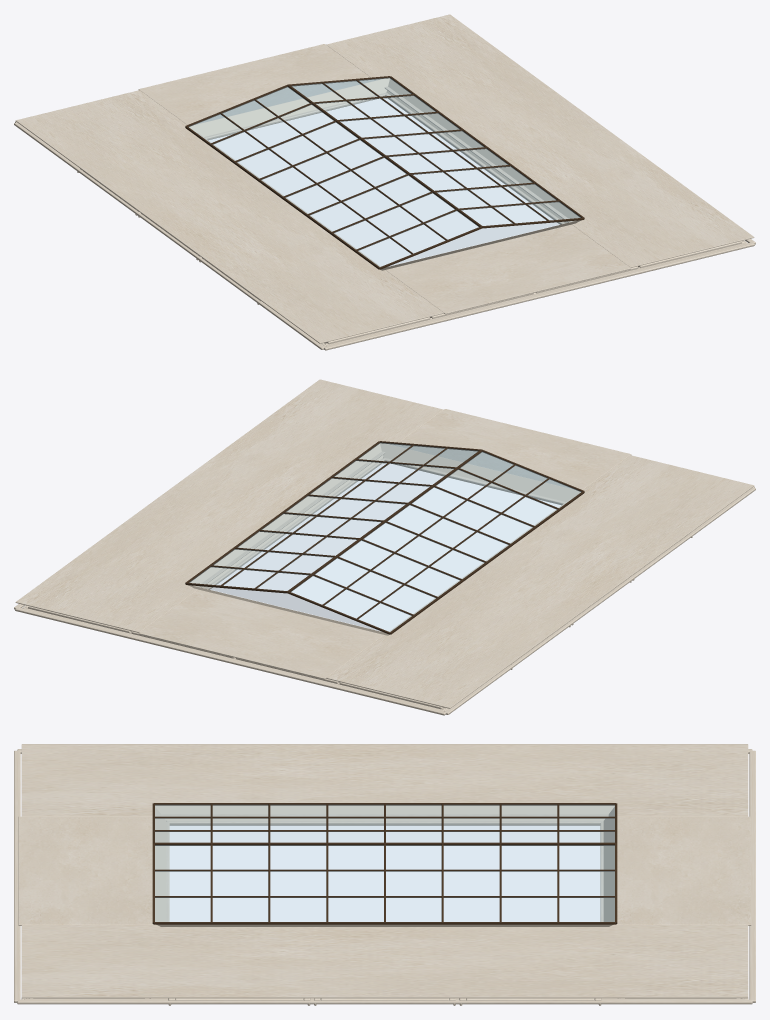
The model's file is grand-hall-ceiling-blender-v1.glb.
3 views of the same model, one above another, from view 1: azimuth 30°, elevation 25°; view 2: azimuth 150°, elevation 25°; view 3: azimuth 270°, elevation 25° (orthographic). The views are drawn at different scales.
Visible parts, largest first — view 1: GH_Merged_GH_Warm_Ivory_Plaster, GH_Merged_GH_Skylight_Glass, GH_Merged_GH_Carved_Ivory_Trim, GH_Merged_GH_Dark_Bronze; view 2: GH_Merged_GH_Warm_Ivory_Plaster, GH_Merged_GH_Skylight_Glass, GH_Merged_GH_Carved_Ivory_Trim, GH_Merged_GH_Dark_Bronze; view 3: GH_Merged_GH_Warm_Ivory_Plaster, GH_Merged_GH_Skylight_Glass, GH_Merged_GH_Carved_Ivory_Trim, GH_Merged_GH_Dark_Bronze.
Boxes of the visible parts, x1,y1,x2,y2 form: GH_Merged_GH_Warm_Ivory_Plaster: (15,14,754,343); GH_Merged_GH_Skylight_Glass: (189,78,580,266); GH_Merged_GH_Carved_Ivory_Trim: (14,78,755,350); GH_Merged_GH_Dark_Bronze: (185,76,584,269); GH_Merged_GH_Warm_Ivory_Plaster: (15,379,754,708); GH_Merged_GH_Skylight_Glass: (189,443,580,631); GH_Merged_GH_Carved_Ivory_Trim: (14,443,755,715); GH_Merged_GH_Dark_Bronze: (185,441,584,634); GH_Merged_GH_Warm_Ivory_Plaster: (18,744,751,998); GH_Merged_GH_Skylight_Glass: (155,805,614,921); GH_Merged_GH_Carved_Ivory_Trim: (14,749,755,1005); GH_Merged_GH_Dark_Bronze: (152,803,617,924).
Bounding box in the file's own units: 63.04 × 4.34 × 78.
Materials: 6 (2 with a texture image).
